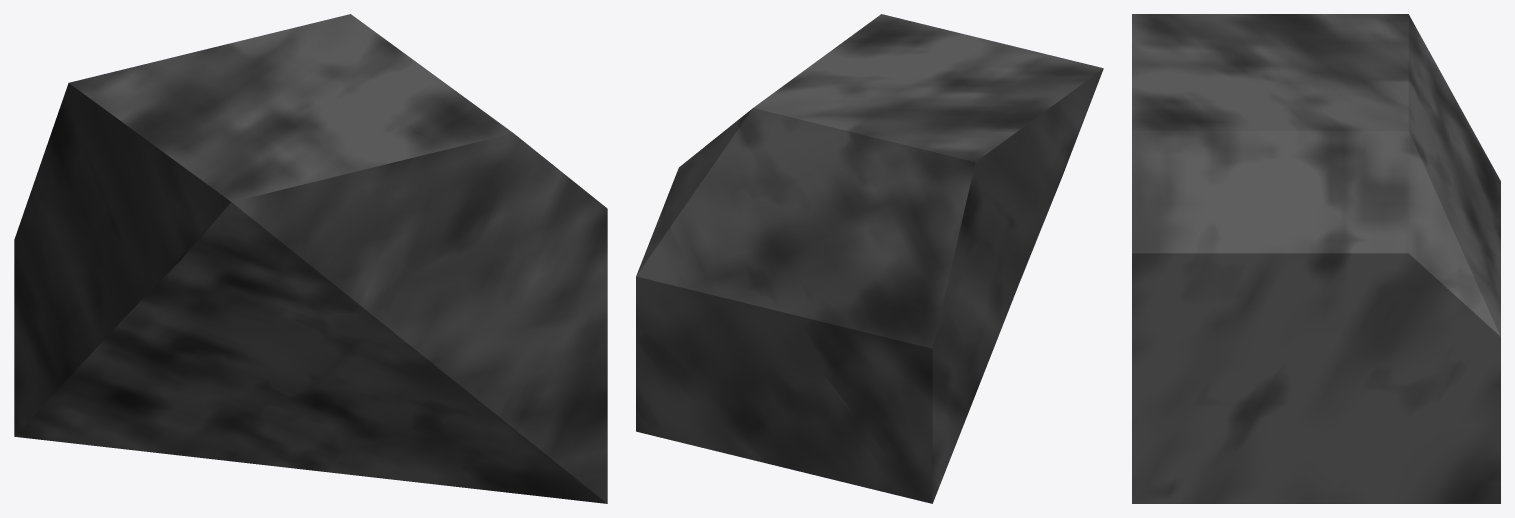
The model's file is rubble.obj.
The picture shows the model from 3 angles, left to right: view 1: azimuth 30°, elevation 25°; view 2: azimuth 150°, elevation 25°; view 3: azimuth 270°, elevation 25°; orthographic projection. The views are drawn at different scales.
Parts seen in each view (by area): view 1: Cube; view 2: Cube; view 3: Cube.
Boxes of the visible parts, x1,y1,x2,y2 form: Cube: (14,14,607,503); Cube: (636,14,1103,503); Cube: (1132,14,1500,503).
Size of the model in its own units: 2 by 2 by 2.
Materials: 1 (1 with a texture image).
